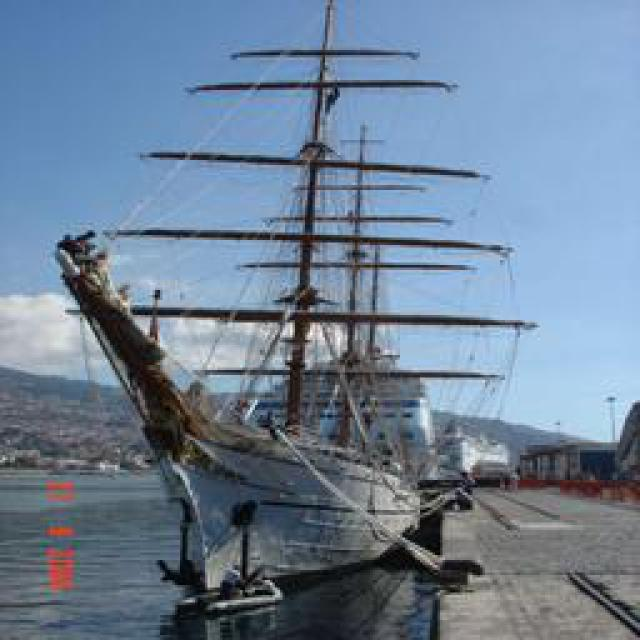Ship: (60, 150, 525, 600)
